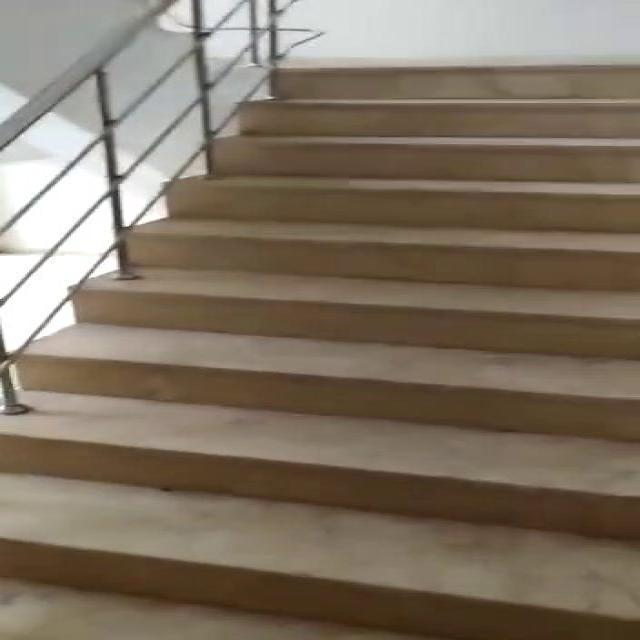stairs: (0, 60, 638, 639)
